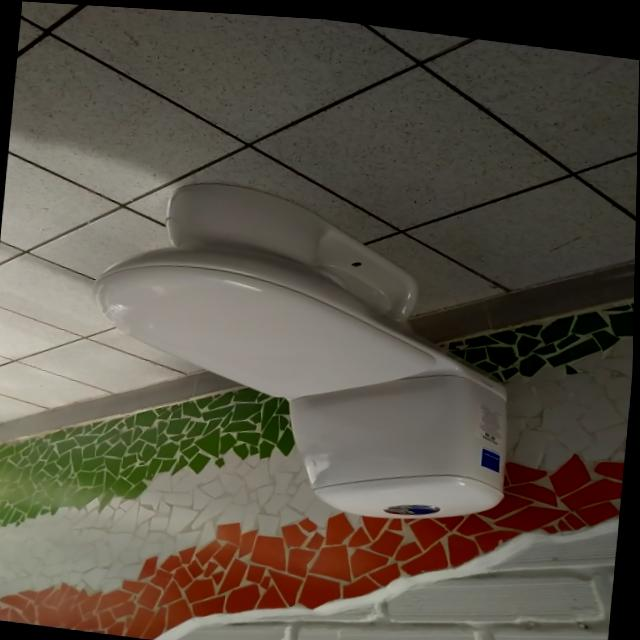toilet: (76, 165, 530, 529)
